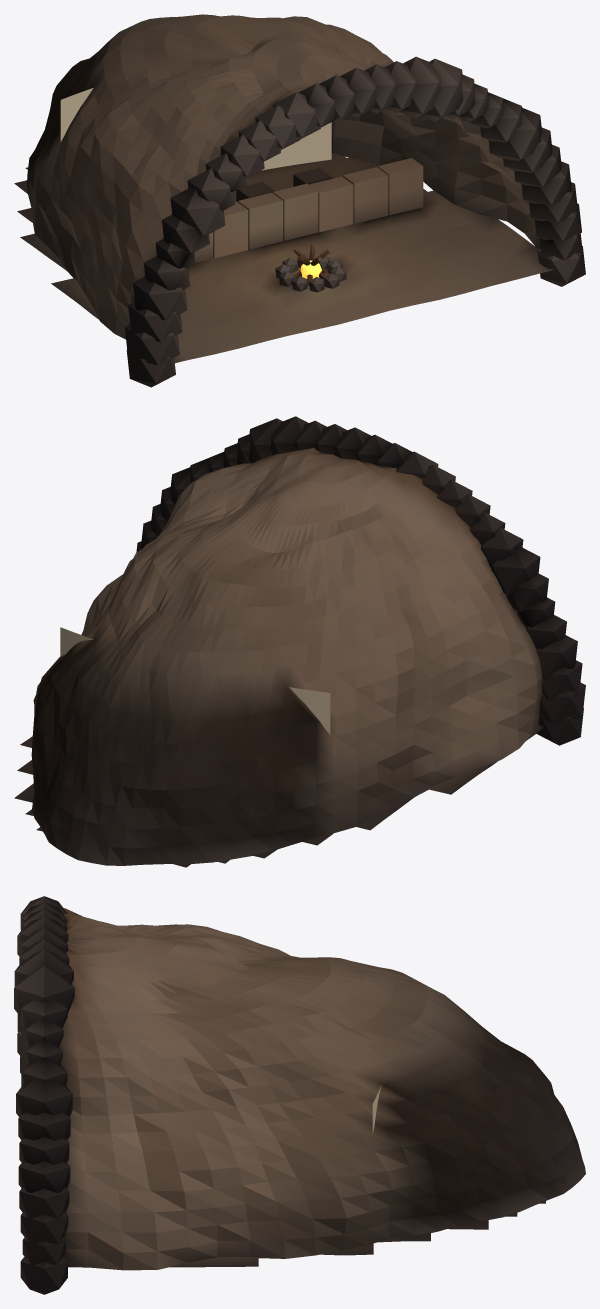
The model's file is cave.glb.
The picture shows the model from 3 angles, top to bottom: view 1: azimuth 30°, elevation 25°; view 2: azimuth 150°, elevation 25°; view 3: azimuth 270°, elevation 25°; orthographic projection. The views are drawn at different scales.
Parts seen in each view (by area): view 1: cave_shell, cave_lip, cave_floor, cave_wall_low, cave_screen, cave_firering, cave_benches, cave_logs; view 2: cave_shell, cave_lip, cave_floor, cave_screen; view 3: cave_shell, cave_lip, cave_floor.
Boxes of the visible parts, x1,y1,x2,y2 form: cave_shell: [27, 14, 540, 339]; cave_lip: [124, 56, 585, 387]; cave_floor: [14, 153, 554, 363]; cave_wall_low: [194, 158, 423, 262]; cave_screen: [60, 88, 331, 170]; cave_firering: [275, 254, 346, 292]; cave_benches: [236, 168, 332, 201]; cave_logs: [293, 244, 329, 285]; cave_shell: [31, 448, 542, 865]; cave_lip: [136, 416, 585, 745]; cave_floor: [14, 725, 543, 867]; cave_screen: [60, 627, 330, 734]; cave_shell: [59, 908, 585, 1270]; cave_lip: [14, 896, 74, 1294]; cave_floor: [68, 1199, 545, 1267].
Bounding box in the file's own units: 10.4 × 5.89 × 11.06.
